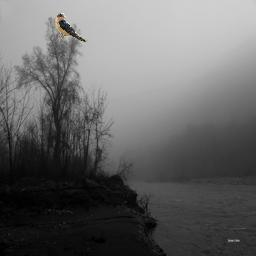Swallow: (55, 11, 89, 43)
